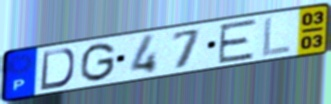4: (128, 32, 161, 77)
7: (170, 27, 204, 70)
D: (38, 47, 77, 92)
E: (216, 17, 259, 65)
G: (78, 41, 118, 83)
L: (260, 15, 293, 58)
